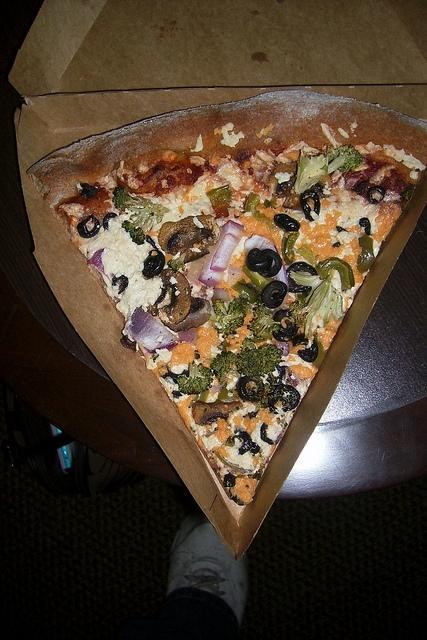bell pepper: (315, 258, 355, 292), (242, 264, 276, 290), (244, 192, 270, 222), (357, 233, 375, 274), (233, 279, 260, 303), (282, 232, 300, 266), (207, 184, 232, 207), (312, 334, 325, 368), (250, 329, 272, 343), (218, 382, 229, 402), (199, 390, 209, 402)
broccoli: (112, 187, 170, 244), (234, 338, 283, 380), (213, 298, 247, 338), (315, 282, 344, 327), (176, 361, 214, 395), (247, 303, 281, 340), (328, 144, 362, 178), (211, 352, 239, 384), (168, 250, 187, 273)
mushroom: (158, 214, 220, 264), (158, 268, 192, 324), (161, 296, 211, 332), (192, 400, 242, 426)
onion: (199, 220, 245, 286), (127, 306, 180, 350), (271, 246, 290, 316), (210, 234, 240, 272), (244, 234, 274, 252), (86, 248, 104, 272), (178, 328, 198, 346), (275, 341, 290, 356)
